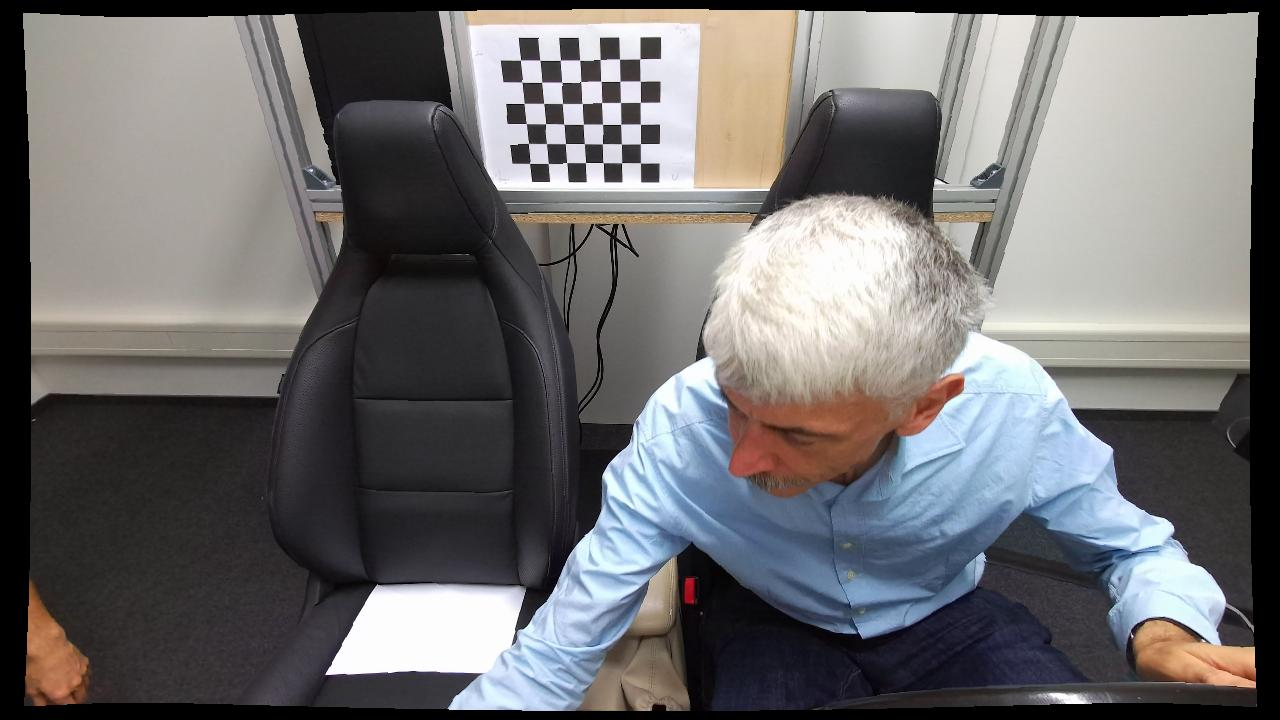Distracted: (445, 186, 1113, 710)
